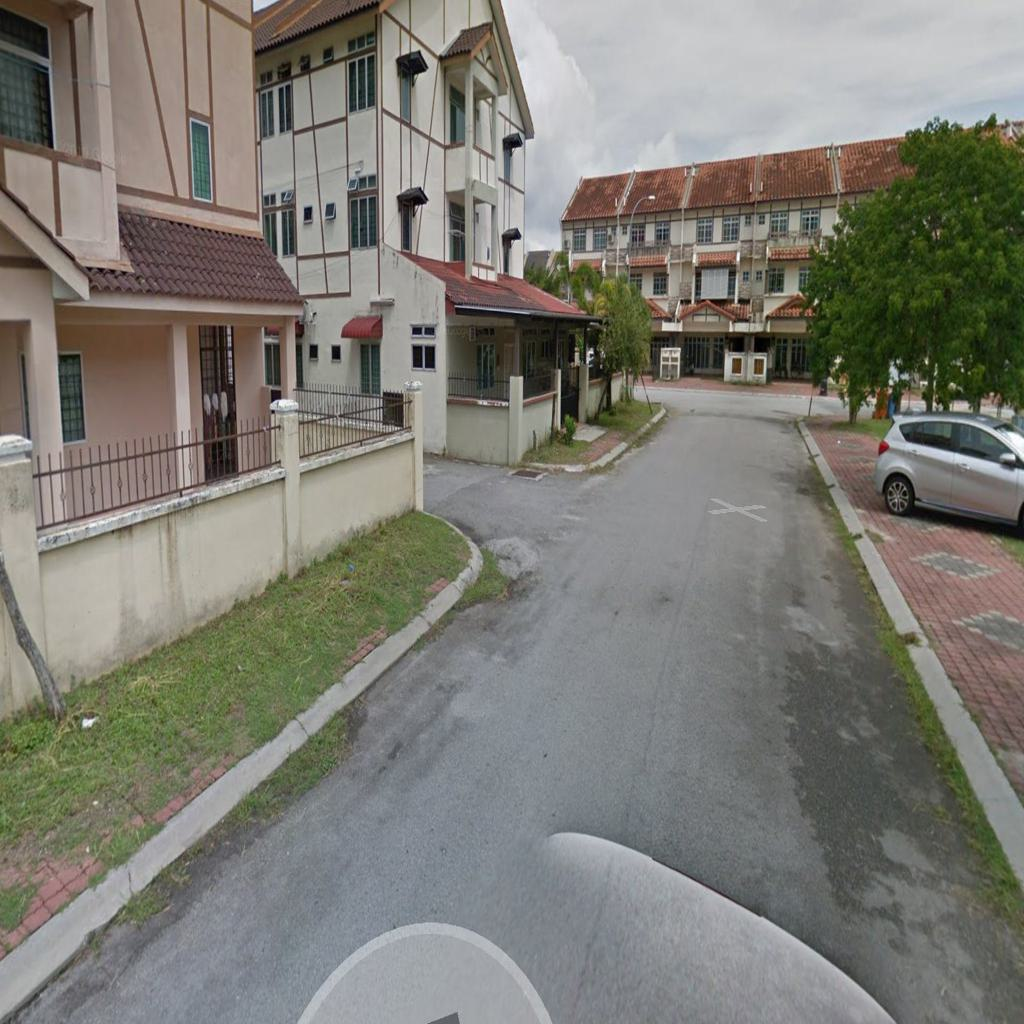Junction: (422, 429, 632, 595)
